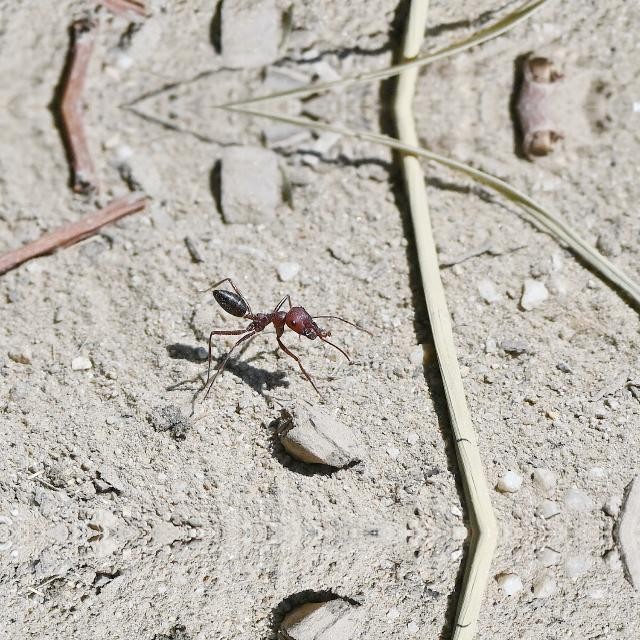Cataglyphis: (205, 279, 337, 349)
